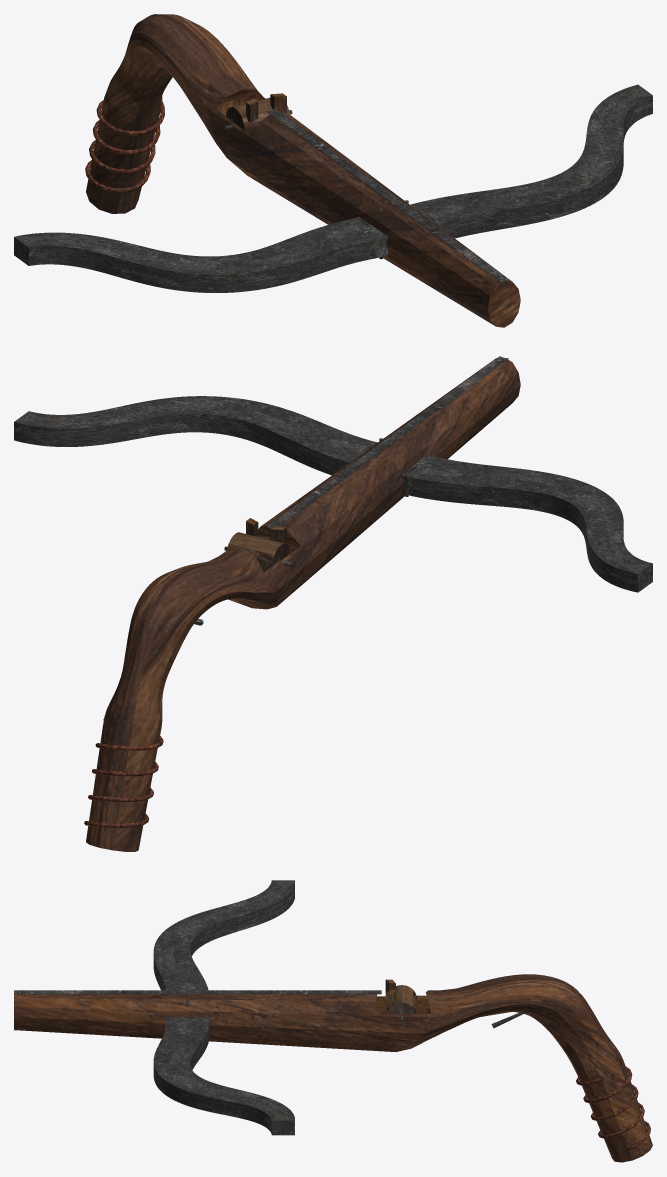
The model's file is HandCrossbowFrame.obj.
3 views of the same model, one above another, from view 1: azimuth 30°, elevation 25°; view 2: azimuth 150°, elevation 25°; view 3: azimuth 270°, elevation 25° (orthographic). The views are drawn at different scales.
Visible parts, largest first — view 1: HandCrossbowFrame; view 2: HandCrossbowFrame; view 3: HandCrossbowFrame.
Part boxes in pixels (x1,y1,x2,y2): HandCrossbowFrame: (14,14,652,327); HandCrossbowFrame: (14,356,652,851); HandCrossbowFrame: (14,880,652,1162).
Size of the model in its own units: 0.34 by 0.1191 by 0.3822.
4 materials, 4 textured.
